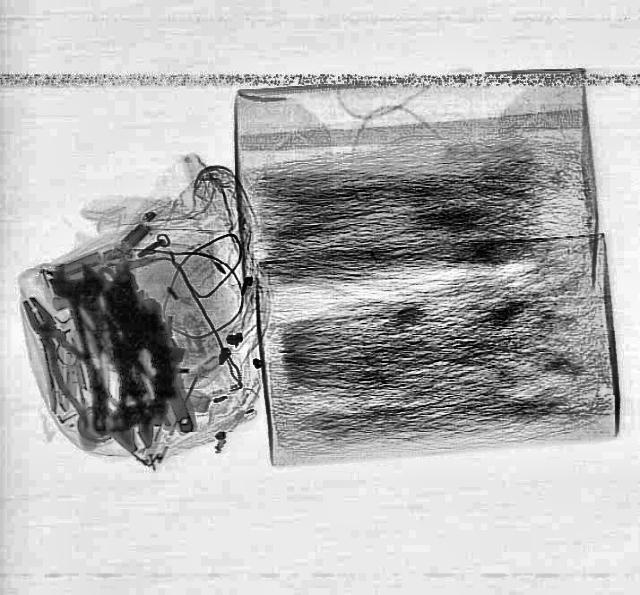Pliers: (4, 288, 128, 432)
Wrench: (42, 256, 170, 417)
